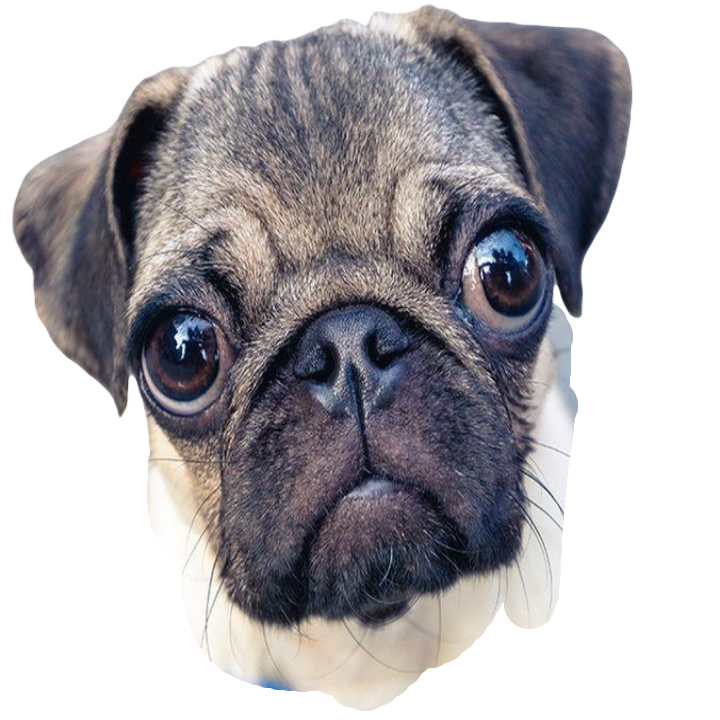Dog: (7, 11, 639, 717)
